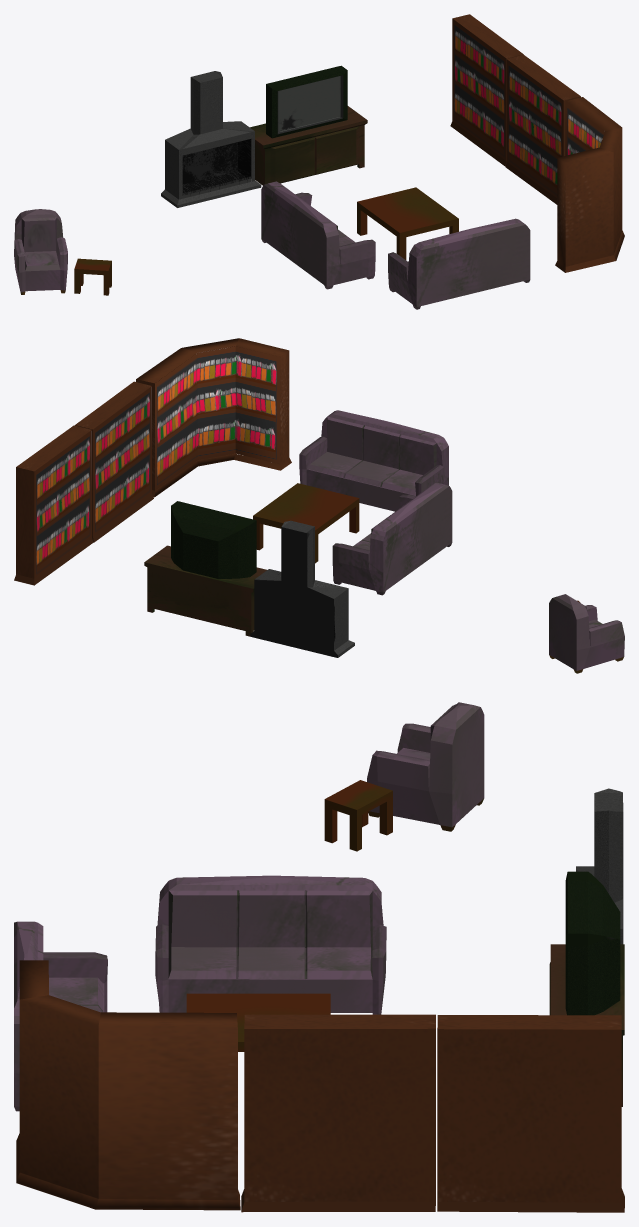
File: Living room furniture mk2.fbx
3 views of the same model, one above another, from view 1: azimuth 30°, elevation 25°; view 2: azimuth 150°, elevation 25°; view 3: azimuth 270°, elevation 25° (orthographic). The views are drawn at different scales.
Visible parts, largest first — view 1: corner bookcase DS, triple sofa.001, Fireplace, moving bookcase, Bookcase left, triple sofa.002, tv unit, tv, single sofa, coffee table, small coffee table; view 2: corner bookcase DS, triple sofa.001, Bookcase left, Fireplace, moving bookcase, triple sofa.002, tv unit, tv, single sofa, coffee table; view 3: corner bookcase DS, moving bookcase, Bookcase left, triple sofa.002, single sofa, tv, triple sofa.001, Fireplace, coffee table, small coffee table, tv unit.
Boxes of the visible parts, x1,y1,x2,y2 form: corner bookcase DS: (555, 97, 624, 272); triple sofa.001: (388, 218, 530, 309); Fireplace: (161, 71, 261, 207); moving bookcase: (505, 55, 580, 204); Bookcase left: (450, 14, 523, 166); triple sofa.002: (261, 181, 375, 289); tv unit: (250, 106, 367, 185); tv: (266, 65, 347, 138); single sofa: (14, 209, 67, 294); coffee table: (357, 187, 458, 259); small coffee table: (74, 258, 111, 295); corner bookcase DS: (136, 338, 291, 497); triple sofa.001: (299, 410, 448, 511); Bookcase left: (14, 425, 93, 585); Fireplace: (250, 520, 354, 657); moving bookcase: (75, 381, 153, 542); triple sofa.002: (332, 482, 452, 595); tv unit: (144, 545, 266, 636); tv: (171, 501, 256, 578); single sofa: (549, 594, 624, 673); coffee table: (253, 483, 359, 563); corner bookcase DS: (16, 960, 240, 1210); moving bookcase: (241, 1014, 435, 1212); Bookcase left: (437, 1015, 624, 1212); triple sofa.002: (155, 875, 386, 1014); single sofa: (367, 702, 484, 831); tv: (565, 871, 620, 1015); triple sofa.001: (14, 921, 107, 1111); Fireplace: (576, 788, 623, 944); coffee table: (186, 993, 330, 1051); small coffee table: (324, 780, 392, 851); tv unit: (549, 944, 624, 1106).
Size of the model in its own units: 1395 by 295 by 846.
